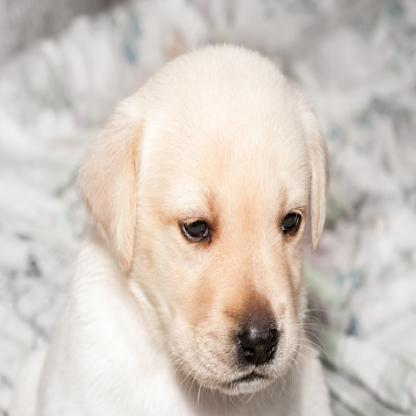dog: (67, 40, 333, 416)
